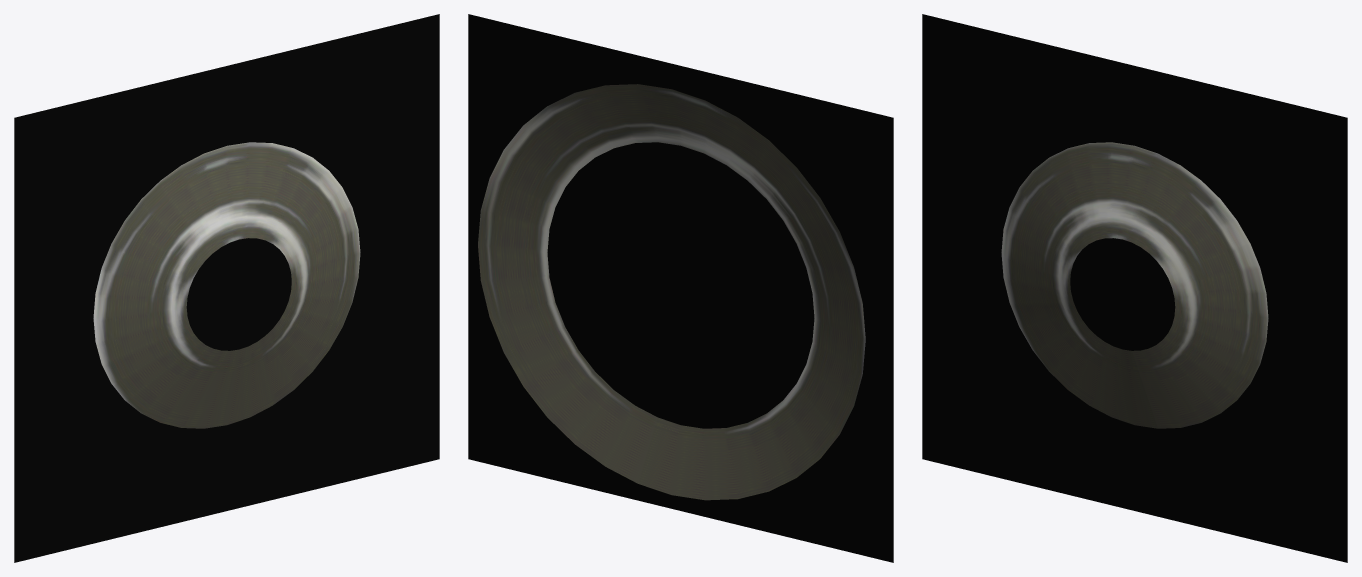
Rendered from Particle System #071207.fbx.
3 renders of one model, left to right at view 1: azimuth 30°, elevation 25°; view 2: azimuth 150°, elevation 25°; view 3: azimuth 330°, elevation 25°, orthographic.
Visible parts, largest first — view 1: Particle System, DG_2; view 2: Particle System, DG_2; view 3: Particle System, DG_2.
Boxes of the visible parts, bbox=[...] form: Particle System: bbox=[14, 14, 439, 562]; DG_2: bbox=[93, 142, 360, 428]; Particle System: bbox=[468, 14, 893, 562]; DG_2: bbox=[478, 84, 865, 500]; Particle System: bbox=[922, 14, 1347, 562]; DG_2: bbox=[1001, 142, 1268, 428].
Size of the model in its own units: 3 by 3 by 0.262.
2 materials, 2 textured.
